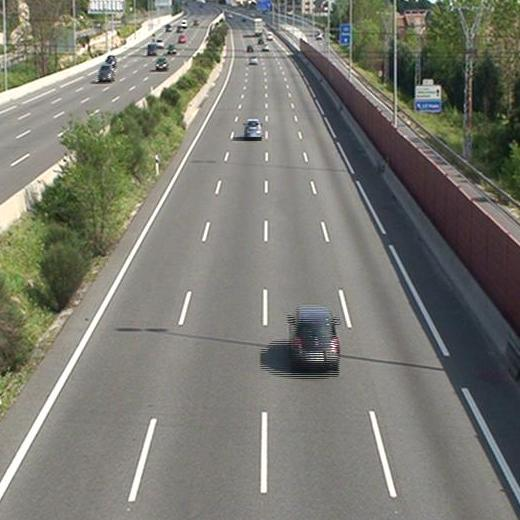car: (288, 306, 339, 366), (242, 119, 263, 140), (247, 54, 259, 63)
